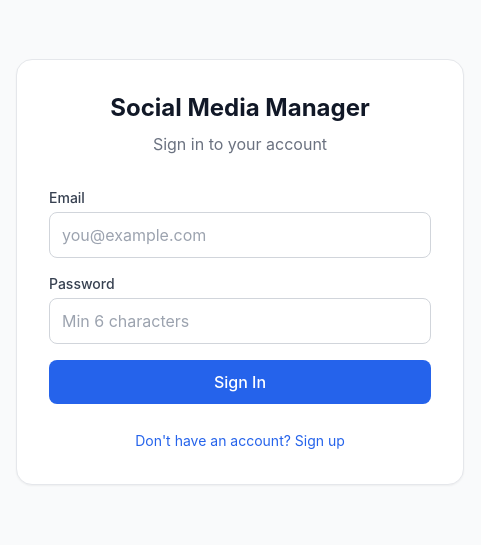
Login page › switches back to login from register
The width and height of the screenshot is (481, 545).
Step 1. Click the button "Don't have an account? Sign up" → click(240, 441), box [135,431,345,451]
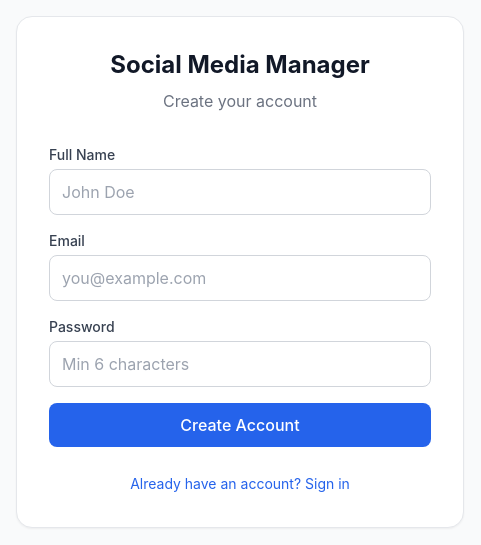
Expected: the text "Create your account" is shown, [163,91,317,111]
Step 2. Click the button "Already have an account? Sign in" → click(240, 484), box [130,474,350,494]
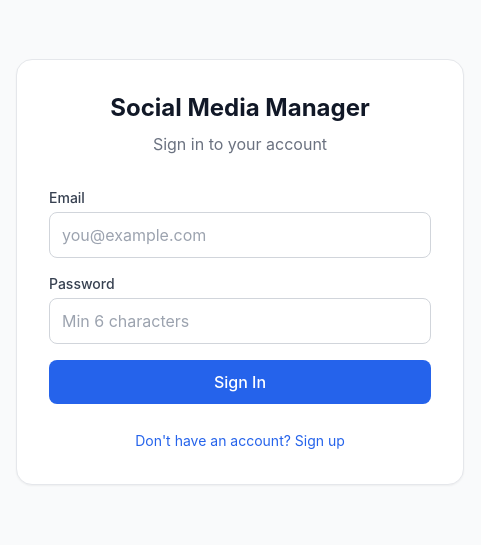
Expected: the text "Sign in to your account" is shown, [153,134,327,154]
